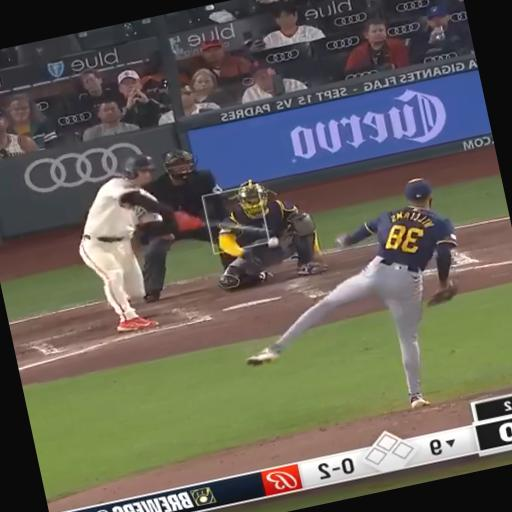bat: (208, 221, 268, 237)
